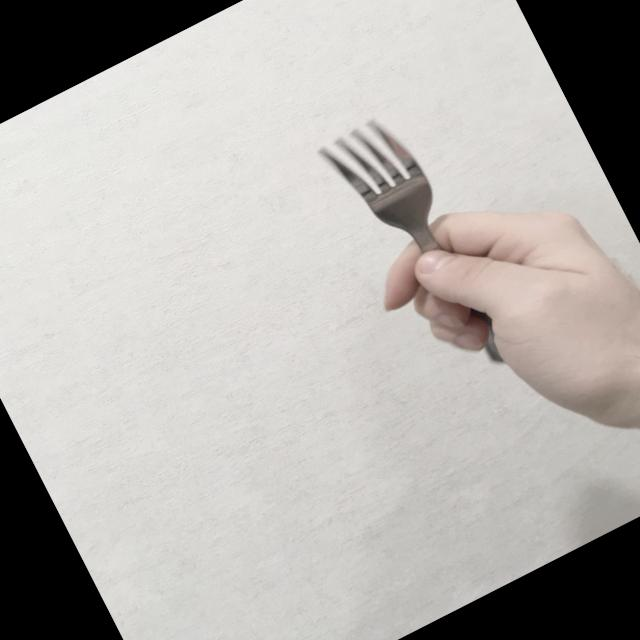fork: (314, 105, 524, 398)
